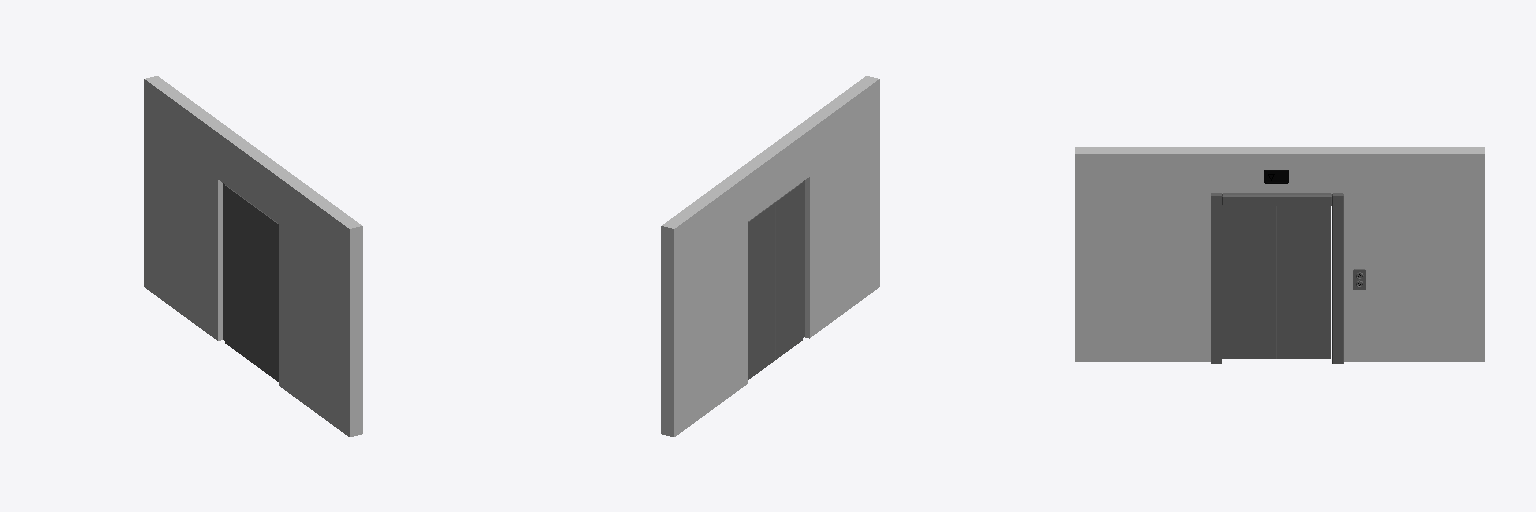
The model's file is Elevator.obj.
The picture shows the model from 3 angles: view 1: azimuth 30°, elevation 25°; view 2: azimuth 150°, elevation 25°; view 3: azimuth 270°, elevation 25°; orthographic projection.
Parts seen in each view (by area): view 1: Object_8, Object_4, Object_6; view 2: Object_8, Object_4, Object_6; view 3: Object_8, Object_4, Object_6, Object_10.
Part boxes in pixels (x1,y1,x2,y2): Object_8: (144, 76, 362, 436); Object_4: (252, 205, 278, 381); Object_6: (225, 185, 251, 362); Object_8: (661, 76, 879, 436); Object_4: (775, 182, 802, 359); Object_6: (748, 202, 774, 379); Object_8: (1075, 147, 1484, 361); Object_4: (1222, 206, 1276, 358); Object_6: (1277, 206, 1330, 358); Object_10: (1211, 193, 1343, 363).
Size of the model in its own units: 0.3361 by 3.7 by 6.6.